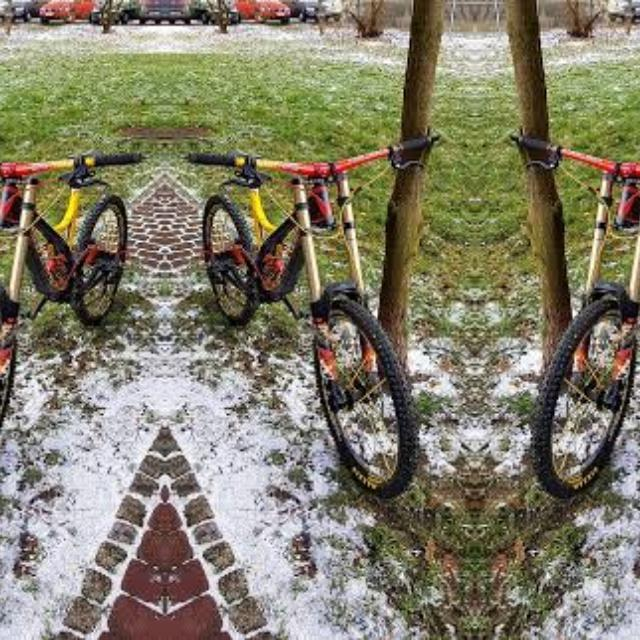obstacle: (178, 120, 474, 502), (473, 119, 640, 502), (0, 119, 150, 502)
